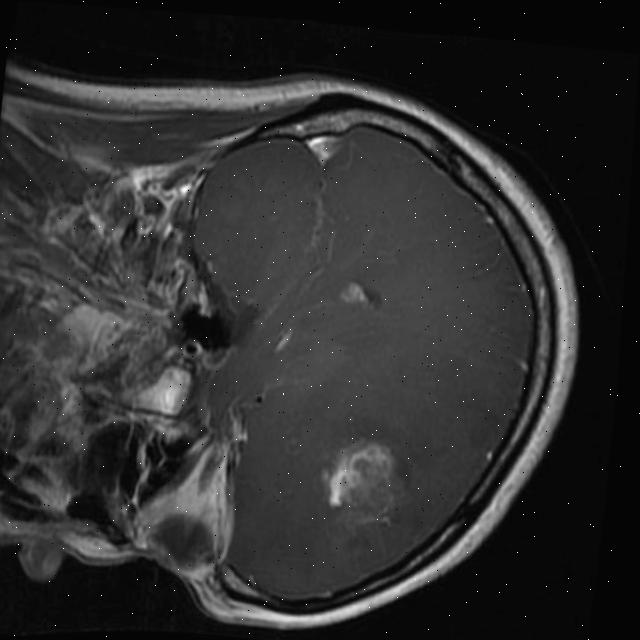Glioma: (316, 434, 406, 514)
